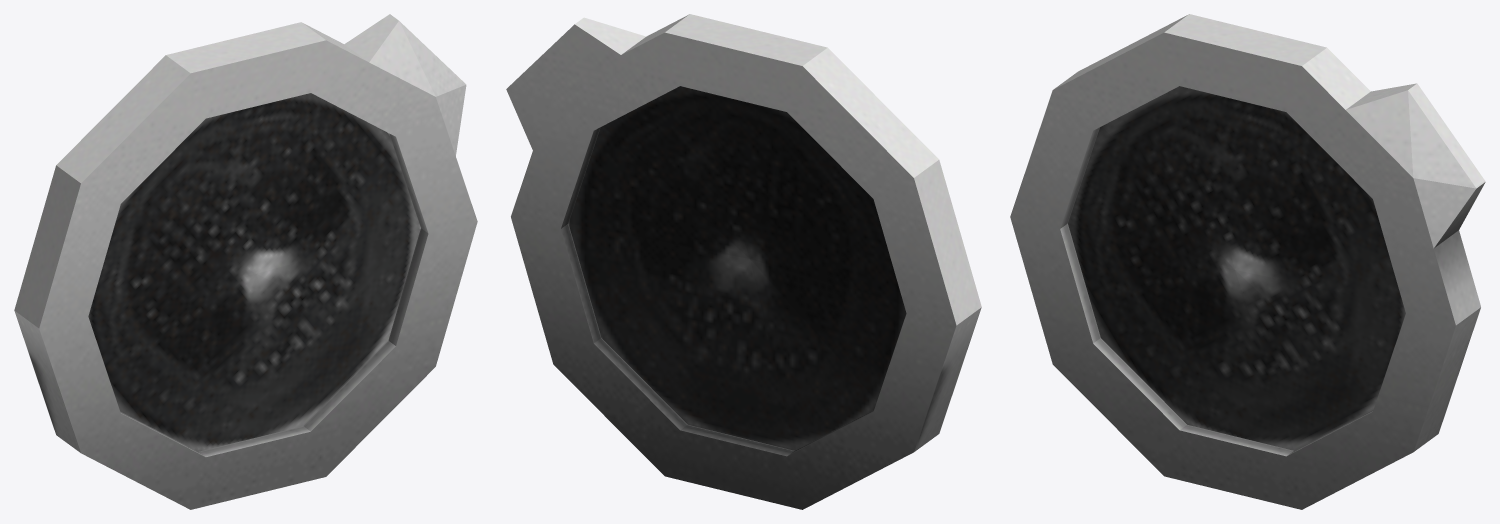
Rendered from washing-machine-door_clean.obj.
3 renders of one model, left to right at view 1: azimuth 30°, elevation 25°; view 2: azimuth 150°, elevation 25°; view 3: azimuth 330°, elevation 25°, orthographic.
Parts seen in each view (by area): view 1: washing-machine-door_clean-col; view 2: washing-machine-door_clean-col; view 3: washing-machine-door_clean-col.
Boxes of the visible parts, bbox=[...] form: washing-machine-door_clean-col: bbox=[14, 14, 477, 509]; washing-machine-door_clean-col: bbox=[506, 14, 981, 509]; washing-machine-door_clean-col: bbox=[1010, 14, 1485, 509].
Size of the model in its own units: 0.5718 by 0.5385 by 0.0556.
